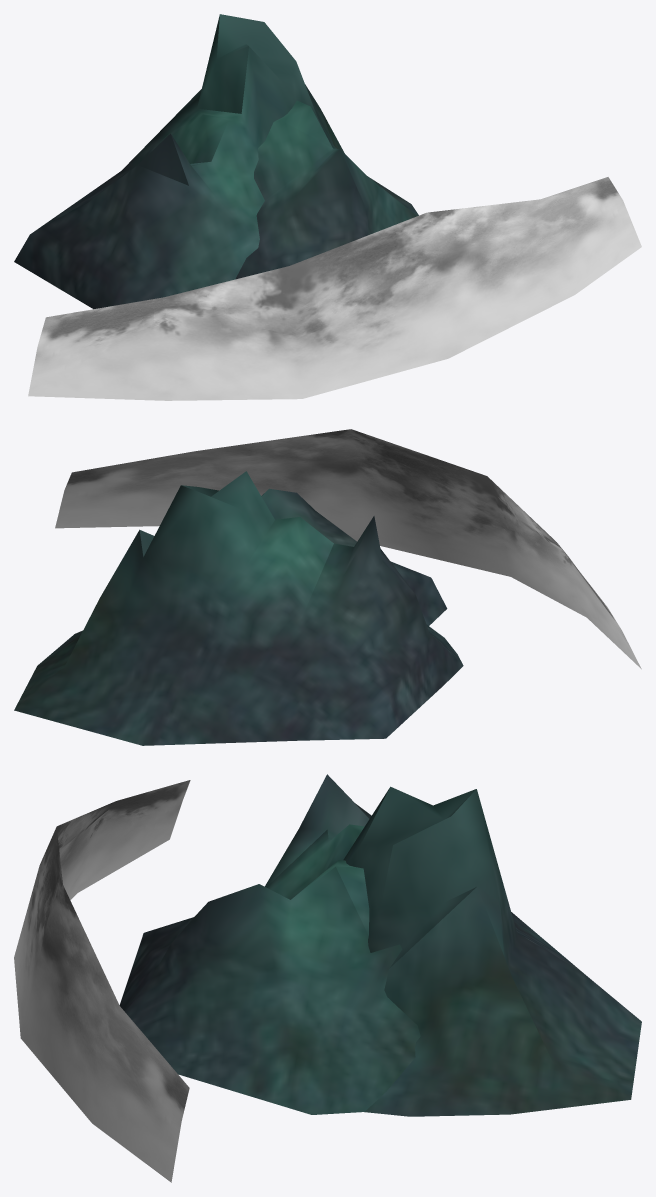
Rendered from pir_m_are_isl_mysterious_03_low.fbx.
3 views of the same model, one above another, from view 1: azimuth 30°, elevation 25°; view 2: azimuth 150°, elevation 25°; view 3: azimuth 270°, elevation 25° (orthographic). The views are drawn at different scales.
Visible parts, largest first — view 1: fog, hill1, hill; view 2: hill1, fog, hill; view 3: hill1, hill, fog.
Boxes of the visible parts, bbox=[...] form: fog: bbox=[28, 177, 641, 400]; hill1: bbox=[14, 14, 418, 309]; hill: bbox=[236, 100, 417, 279]; hill1: bbox=[14, 471, 463, 745]; fog: bbox=[55, 429, 641, 669]; hill: bbox=[261, 488, 447, 625]; hill1: bbox=[265, 774, 641, 1116]; hill: bbox=[119, 860, 420, 1114]; fog: bbox=[14, 780, 190, 1182].
Bounding box in the file's own units: 300060 × 97854 × 232963.
2 materials, 2 textured.
